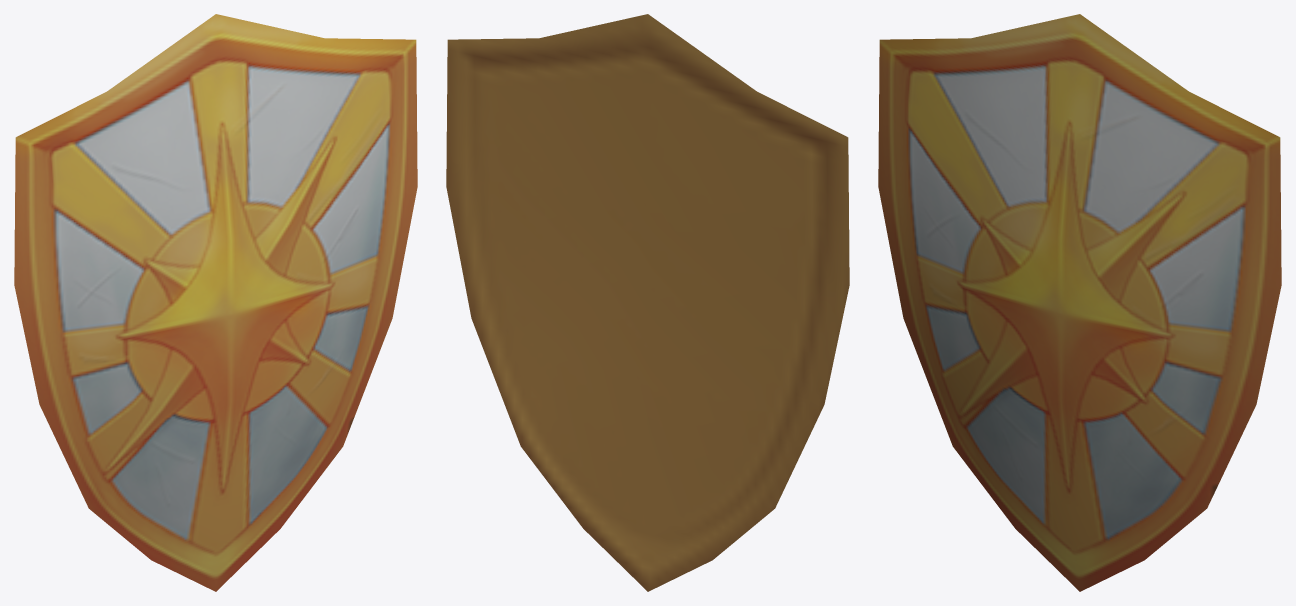
Rendered from 101_lv3_shield.FBX.
3 views of the same model, side by side, from view 1: azimuth 30°, elevation 25°; view 2: azimuth 150°, elevation 25°; view 3: azimuth 330°, elevation 25° (orthographic).
Visible parts, largest first — view 1: 101_lv3_shield; view 2: 101_lv3_shield; view 3: 101_lv3_shield.
Boxes of the visible parts, x1,y1,x2,y2 form: 101_lv3_shield: (14, 14, 417, 591); 101_lv3_shield: (446, 14, 849, 591); 101_lv3_shield: (878, 14, 1281, 591).
Bounding box in the file's own units: 39.85 × 54.57 × 2.92.
